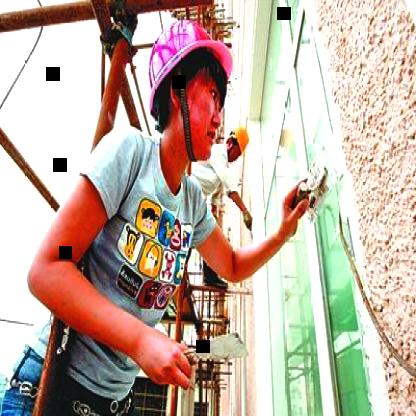helmet: (145, 11, 242, 173)
